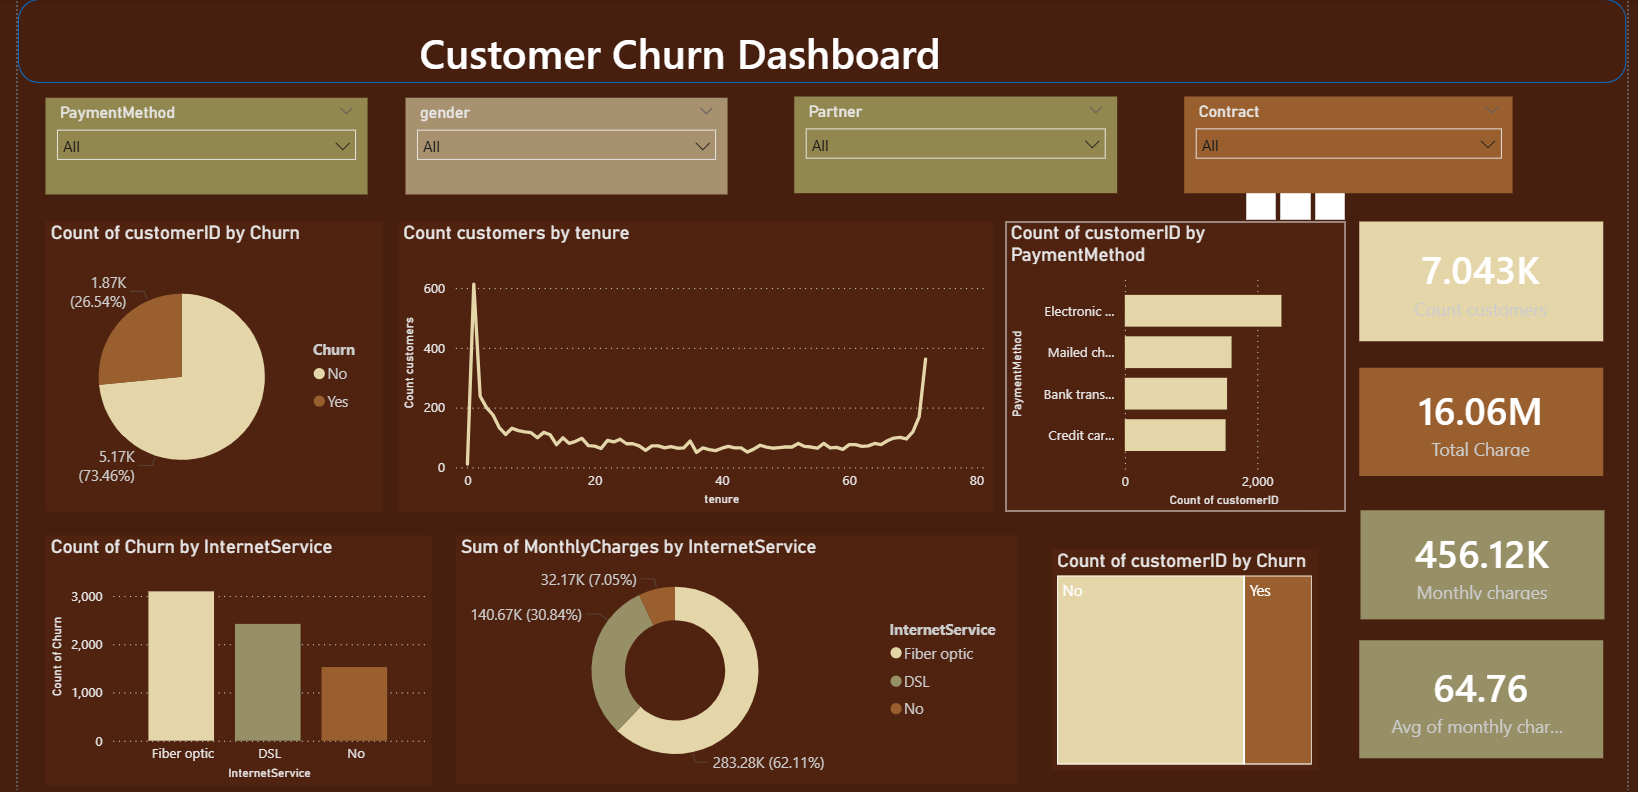

The dashboard page shown, as its layout file describes it:
{"tool":"powerbi","page":{"name":"Page 1","canvas":[1450,720],"ordinal":0},"visuals":[{"type":"shape","box":[0,0,1450.3,75.8],"z":0},{"type":"textbox","box":[314.2,17.8,565.4,70],"z":1000},{"type":"pieChart","fields":{"Category":["IBM USA-Canada  Telco-Customer-Churn.Churn"],"Y":["CountNonNull(IBM USA-Canada  Telco-Customer-Churn.customerID)"]},"box":[24.9,200.5,304.2,261.3],"z":2000},{"type":"lineChart","fields":{"Category":["IBM USA-Canada  Telco-Customer-Churn.tenure"],"Y":["Measures (2).Count customers"]},"box":[342.4,200.5,536.8,261.7],"z":3000},{"type":"barChart","fields":{"Category":["IBM USA-Canada  Telco-Customer-Churn.PaymentMethod"],"Y":["CountNonNull(IBM USA-Canada  Telco-Customer-Churn.customerID)"]},"box":[890.4,200.2,306.9,262.1],"z":4000},{"type":"slicer","fields":{"Values":["IBM USA-Canada  Telco-Customer-Churn.PaymentMethod"]},"box":[24.9,88.5,290.3,87.1],"z":5000},{"type":"slicer","fields":{"Values":["IBM USA-Canada  Telco-Customer-Churn.gender"]},"box":[349.8,88.5,290.3,87.1],"z":6000},{"type":"slicer","fields":{"Values":["IBM USA-Canada  Telco-Customer-Churn.Partner"]},"box":[699.4,88.3,291.1,86.9],"z":7000},{"type":"cardVisual","fields":{"Data":["Measures (2).Avg of monthly charges"]},"box":[1209.2,578.3,220,106.7],"z":8000},{"type":"cardVisual","fields":{"Data":["Measures (2).Monthly charges"]},"box":[1210.5,461,220,98.8],"z":9000},{"type":"cardVisual","fields":{"Data":["Measures (2).Total Charge"]},"box":[1209.2,331.9,220,97.5],"z":10000},{"type":"cardVisual","fields":{"Data":["Measures (2).Count customers"]},"box":[1209.2,200.2,220,108],"z":11000},{"type":"clusteredColumnChart","fields":{"Category":["IBM USA-Canada  Telco-Customer-Churn.InternetService"],"Y":["CountNonNull(IBM USA-Canada  Telco-Customer-Churn.Churn)"]},"box":[25,483.4,347.7,225.2],"z":12000},{"type":"donutChart","fields":{"Y":["Sum(IBM USA-Canada  Telco-Customer-Churn.MonthlyCharges)"],"Category":["IBM USA-Canada  Telco-Customer-Churn.InternetService"]},"box":[395,483,506.3,225],"z":13000},{"type":"treemap","fields":{"Values":["CountNonNull(IBM USA-Canada  Telco-Customer-Churn.customerID)"],"Group":["IBM USA-Canada  Telco-Customer-Churn.Churn"]},"box":[931.8,496.5,239.7,199.3],"z":14000},{"type":"slicer","fields":{"Values":["IBM USA-Canada  Telco-Customer-Churn.Contract"]},"box":[1051.1,88.3,296.4,86.9],"z":15000}]}

Visuals, with their boxes in screenshot pixels (x1, y1, x2, y2), scaled from the page's 1450x720 canvas onto the 1638x792 screenshot:
shape: locate(0, 0, 1637, 83)
textbox: locate(355, 20, 994, 97)
pieChart - IBM USA-Canada  Telco-Customer-Churn.Churn x CountNonNull(IBM USA-Canada  Telco-Customer-Churn.customerID): locate(28, 221, 372, 508)
lineChart - IBM USA-Canada  Telco-Customer-Churn.tenure x Measures (2).Count customers: locate(387, 221, 993, 508)
barChart - IBM USA-Canada  Telco-Customer-Churn.PaymentMethod x CountNonNull(IBM USA-Canada  Telco-Customer-Churn.customerID): locate(1006, 220, 1353, 509)
slicer - IBM USA-Canada  Telco-Customer-Churn.PaymentMethod: locate(28, 97, 356, 193)
slicer - IBM USA-Canada  Telco-Customer-Churn.gender: locate(395, 97, 723, 193)
slicer - IBM USA-Canada  Telco-Customer-Churn.Partner: locate(790, 97, 1119, 193)
cardVisual - Measures (2).Avg of monthly charges: locate(1366, 636, 1615, 754)
cardVisual - Measures (2).Monthly charges: locate(1367, 507, 1616, 616)
cardVisual - Measures (2).Total Charge: locate(1366, 365, 1615, 472)
cardVisual - Measures (2).Count customers: locate(1366, 220, 1615, 339)
clusteredColumnChart - IBM USA-Canada  Telco-Customer-Churn.InternetService x CountNonNull(IBM USA-Canada  Telco-Customer-Churn.Churn): locate(28, 532, 421, 779)
donutChart - Sum(IBM USA-Canada  Telco-Customer-Churn.MonthlyCharges) x IBM USA-Canada  Telco-Customer-Churn.InternetService: locate(446, 531, 1018, 779)
treemap - CountNonNull(IBM USA-Canada  Telco-Customer-Churn.customerID) x IBM USA-Canada  Telco-Customer-Churn.Churn: locate(1053, 546, 1323, 765)
slicer - IBM USA-Canada  Telco-Customer-Churn.Contract: locate(1187, 97, 1522, 193)
